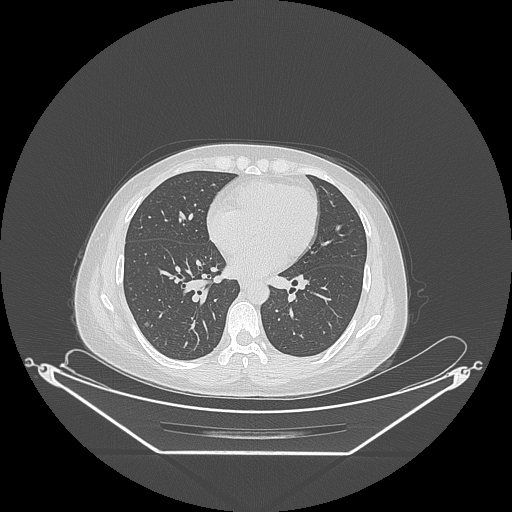nodule: (143, 312, 149, 327)
